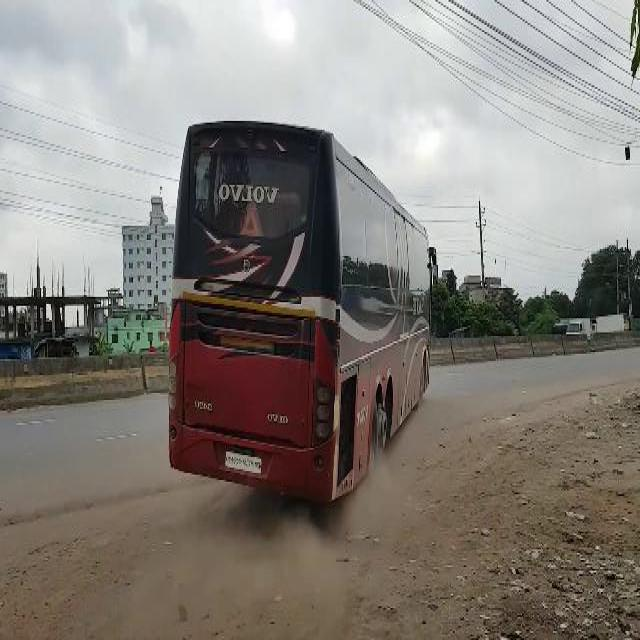Bus: (169, 118, 436, 507)
